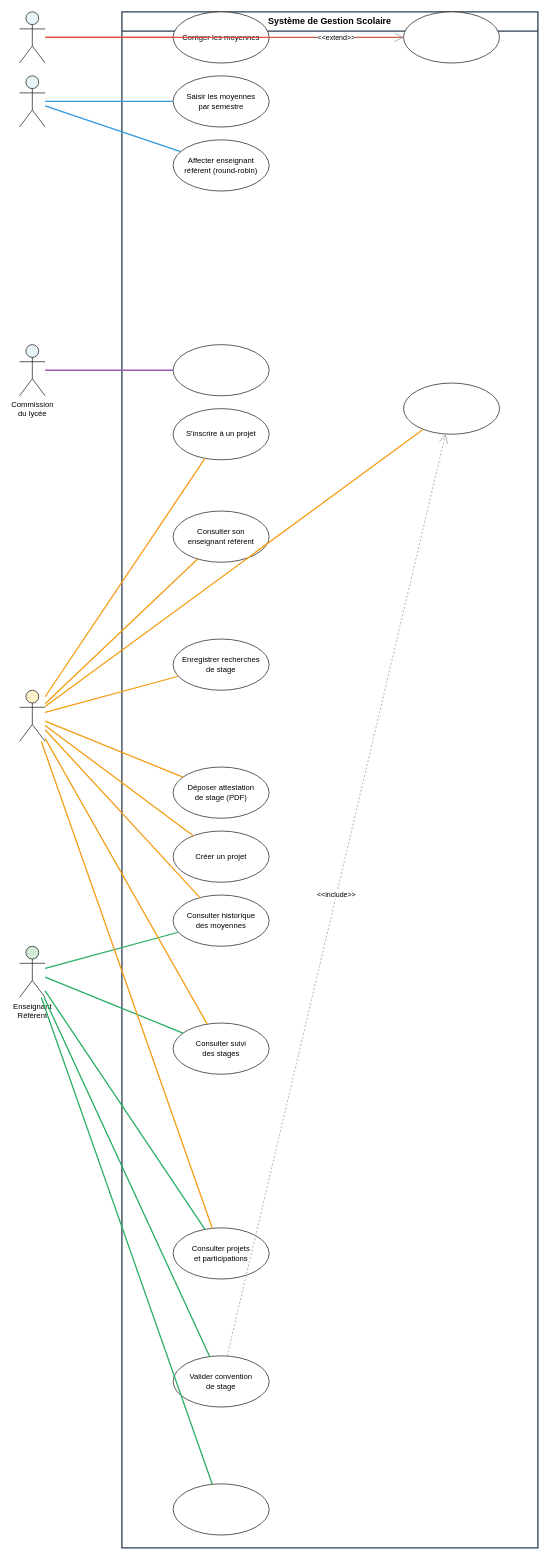
The diagram is 549 pixels wide and 1559 high, and some of its shapes have lost their labels. Each missing label, with the centre of its shape:
"Consulter liste des élèves référés" goes at pixel 220 1509.
"Proviseur" goes at pixel 32 37.
"Remplir convention de stage (PDF)" goes at pixel 451 408.
"Secrétariat" goes at pixel 32 101.
"Valider les moyennes" goes at pixel 451 37.
"Valider un projet" goes at pixel 220 370.
"Élève" goes at pixel 32 715.
